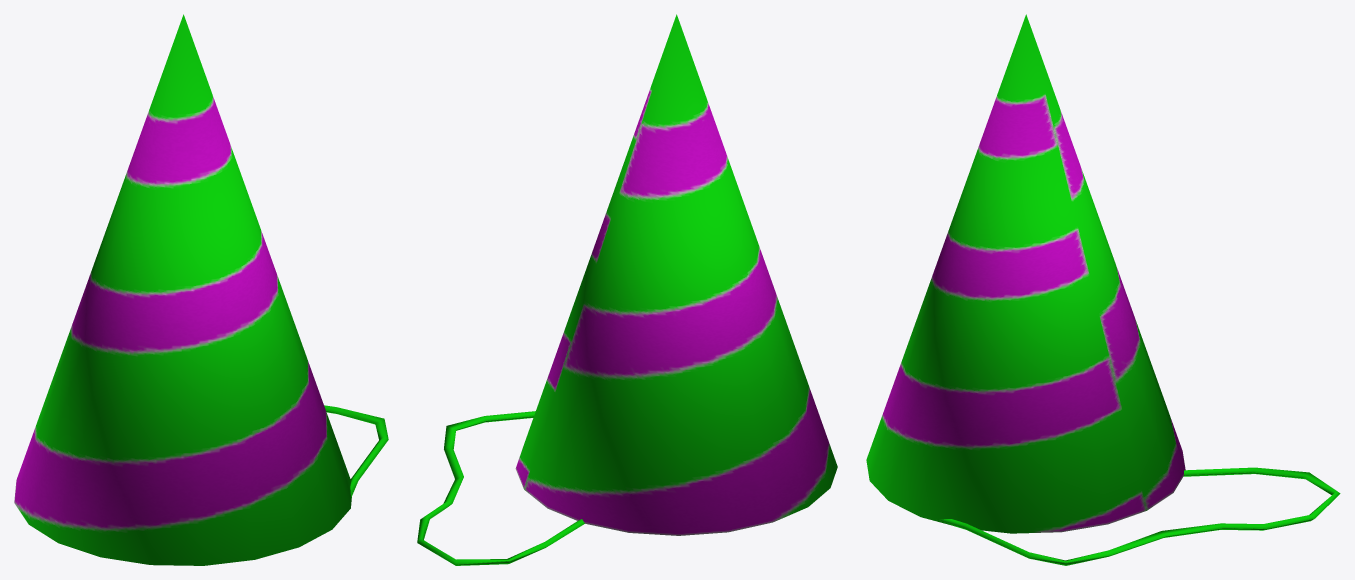
The model's file is partyhat2_reference_004.fbx.
The picture shows the model from 3 angles, left to right: view 1: azimuth 30°, elevation 25°; view 2: azimuth 150°, elevation 25°; view 3: azimuth 270°, elevation 25°; orthographic projection. The views are drawn at different scales.
Parts seen in each view (by area): view 1: partyhat2_reference.004; view 2: partyhat2_reference.004; view 3: partyhat2_reference.004.
Boxes of the visible parts, left/top/right/bottom form: partyhat2_reference.004: left=14, top=14, right=388, bottom=565; partyhat2_reference.004: left=417, top=14, right=837, bottom=565; partyhat2_reference.004: left=866, top=14, right=1340, bottom=565.
Bounding box in the file's own units: 31.59 × 39.53 × 37.32.
